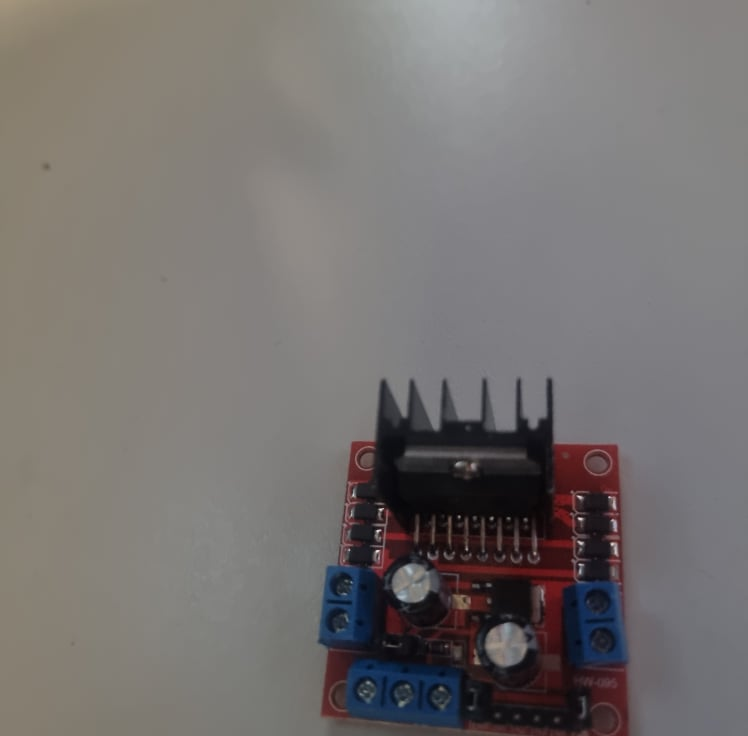MOTOR: (318, 375, 632, 736)
